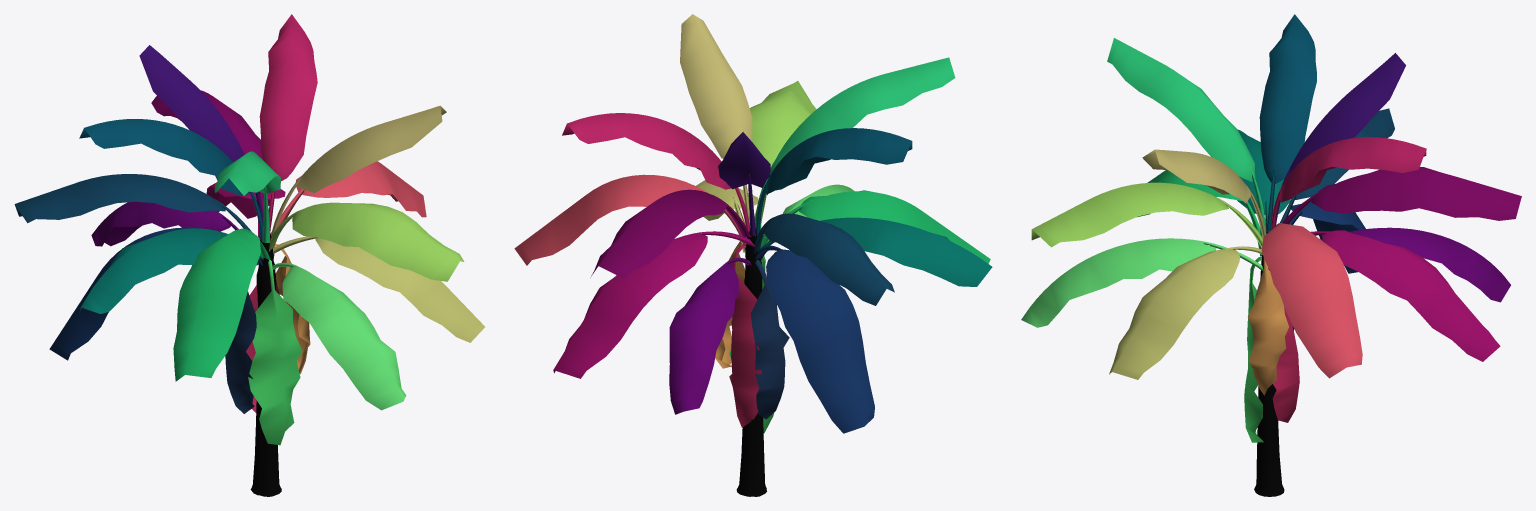
File: SM_Tree_Banana_02.fbx
The picture shows the model from 3 angles, left to right: view 1: azimuth 30°, elevation 25°; view 2: azimuth 150°, elevation 25°; view 3: azimuth 270°, elevation 25°; orthographic projection.
Visible parts, largest first — view 1: SM_Tree_Banana_02_LOD0; view 2: SM_Tree_Banana_02_LOD0; view 3: SM_Tree_Banana_02_LOD0.
Boxes of the visible parts, <box> form: SM_Tree_Banana_02_LOD0: <box>14,14,484,496</box>; SM_Tree_Banana_02_LOD0: <box>514,14,992,496</box>; SM_Tree_Banana_02_LOD0: <box>1021,14,1521,496</box>.
Bounding box in the file's own units: 815 × 871 × 790.
